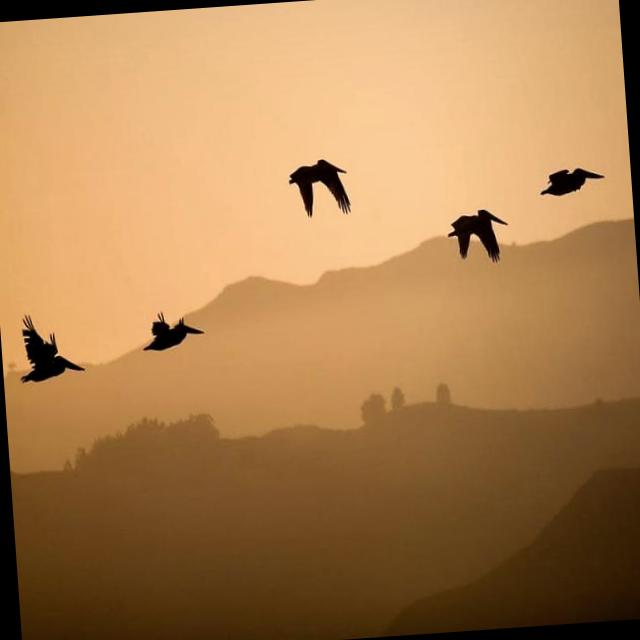bird: (2, 309, 90, 390), (273, 154, 356, 230), (437, 202, 512, 266), (136, 304, 205, 362), (534, 158, 610, 201)
